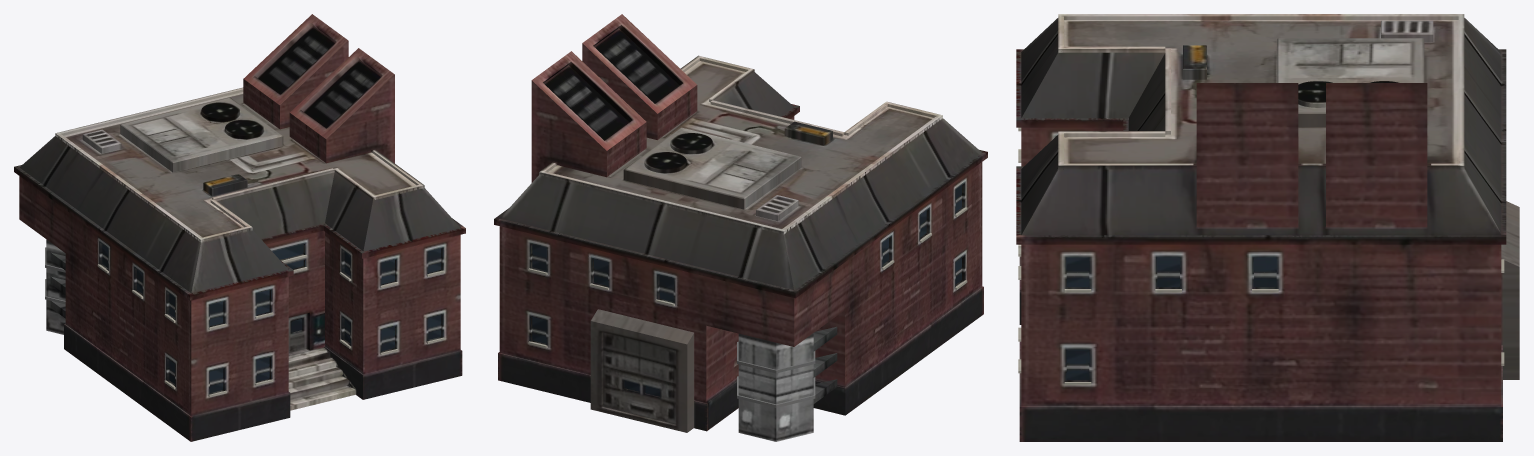
Rendered from heavyindustrial_cad.glb.
3 renders of one model, left to right at view 1: azimuth 30°, elevation 25°; view 2: azimuth 150°, elevation 25°; view 3: azimuth 270°, elevation 25°, orthographic. The views are drawn at different scales.
Visible parts, largest first — view 1: HeavyIndustry; view 2: HeavyIndustry; view 3: HeavyIndustry.
Part boxes in pixels (box(x1,y1,x2,y2)): HeavyIndustry: box(14, 14, 465, 441); HeavyIndustry: box(494, 14, 987, 441); HeavyIndustry: box(1016, 14, 1519, 441).
Bounding box in the file's own units: 17.32 × 15.34 × 19.64.
1 material, 1 textured.
